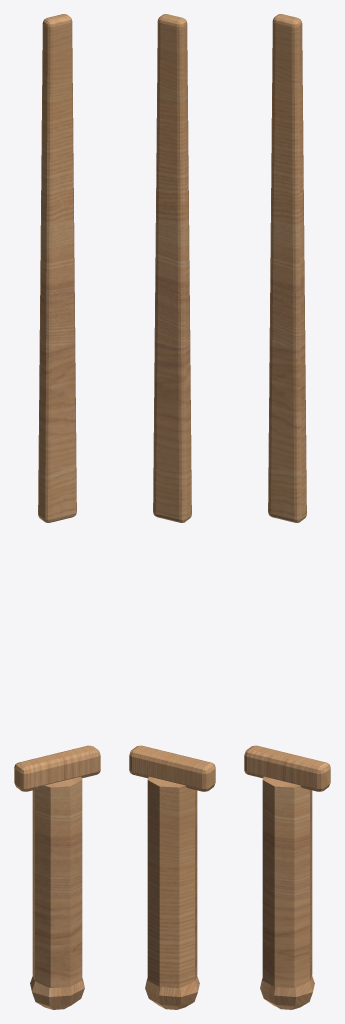
File: wooden_sword.glb
3 renders of one model, left to right at view 1: azimuth 30°, elevation 25°; view 2: azimuth 150°, elevation 25°; view 3: azimuth 330°, elevation 25°, orthographic.
Visible parts, largest first — view 1: wooden_sword; view 2: wooden_sword; view 3: wooden_sword.
Part boxes in pixels (bbox=[...]): wooden_sword: bbox=[14, 14, 100, 1009]; wooden_sword: bbox=[129, 14, 215, 1009]; wooden_sword: bbox=[244, 14, 330, 1009].
Bounding box in the file's own units: 0.05 × 0.5928 × 0.0288.
Materials: 1 (1 with a texture image).
